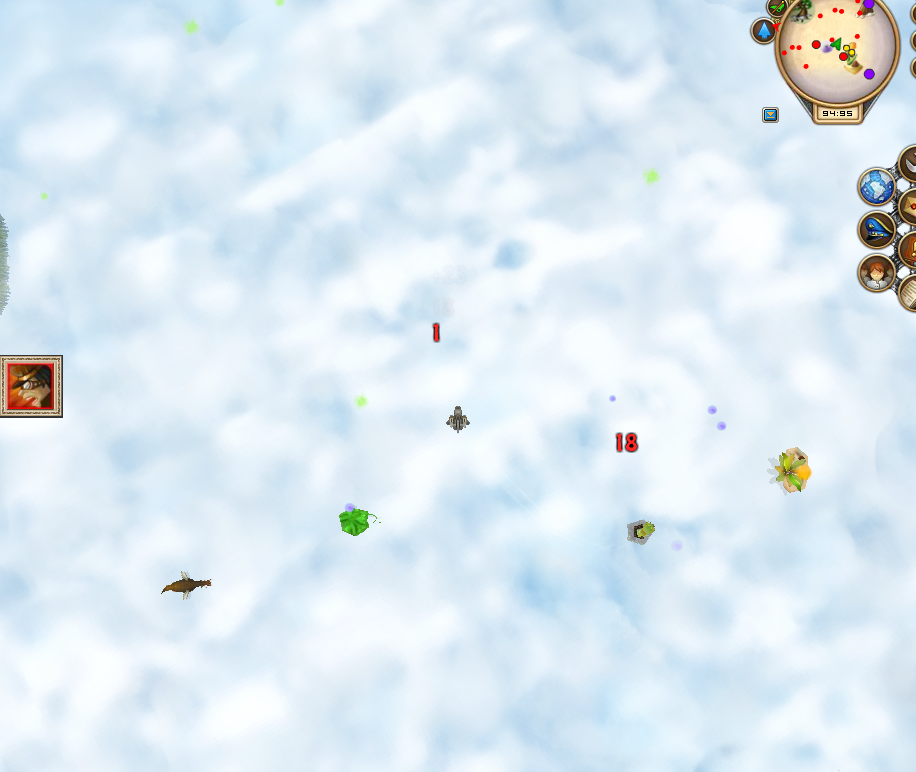dandelion-full: (333, 499, 384, 541)
fluff: (668, 532, 688, 558), (605, 390, 620, 406), (714, 418, 729, 434), (705, 403, 719, 416)
